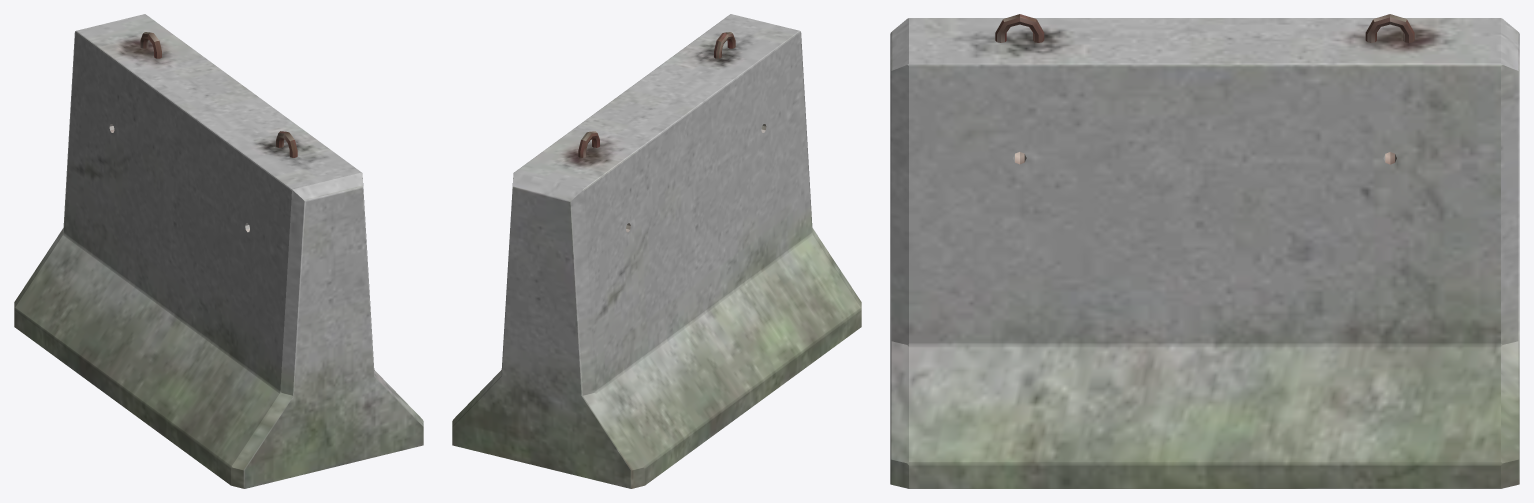
The model's file is barrera.glb.
3 renders of one model, left to right at view 1: azimuth 30°, elevation 25°; view 2: azimuth 150°, elevation 25°; view 3: azimuth 270°, elevation 25°, orthographic. The views are drawn at different scales.
Visible parts, largest first — view 1: jersey_barrier; view 2: jersey_barrier; view 3: jersey_barrier.
Boxes of the visible parts, box(x1,y1,x2,y2) form: jersey_barrier: box(14, 14, 423, 488); jersey_barrier: box(452, 14, 861, 488); jersey_barrier: box(890, 14, 1519, 488).
Bounding box in the file's own units: 0.9647 × 1.44 × 2.
1 material, 1 textured.
